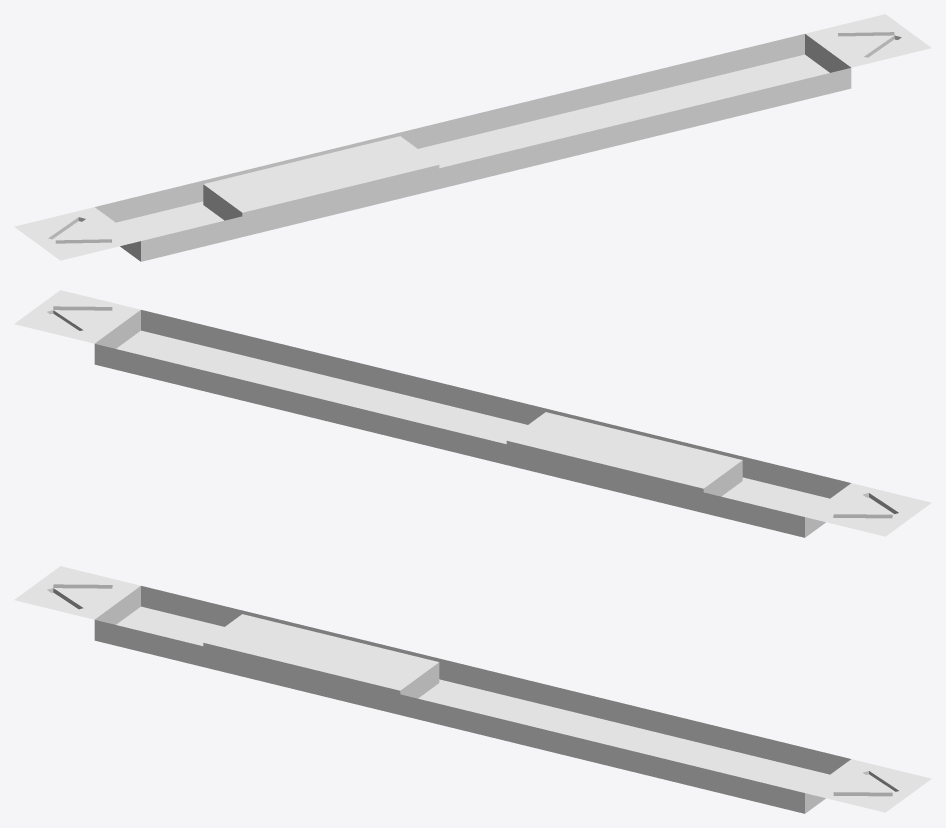
The model's file is scroll.dae.
3 renders of one model, top to bottom at view 1: azimuth 30°, elevation 25°; view 2: azimuth 150°, elevation 25°; view 3: azimuth 330°, elevation 25°, orthographic.
Visible parts, largest first — view 1: SketchUp; view 2: SketchUp; view 3: SketchUp.
Part boxes in pixels (x1,y1,x2,y2): SketchUp: (14,14,931,261); SketchUp: (14,290,931,537); SketchUp: (14,566,931,813).
Bounding box in the file's own units: 11.82 × 0.2699 × 1.09.
3 materials, 3 textured.
